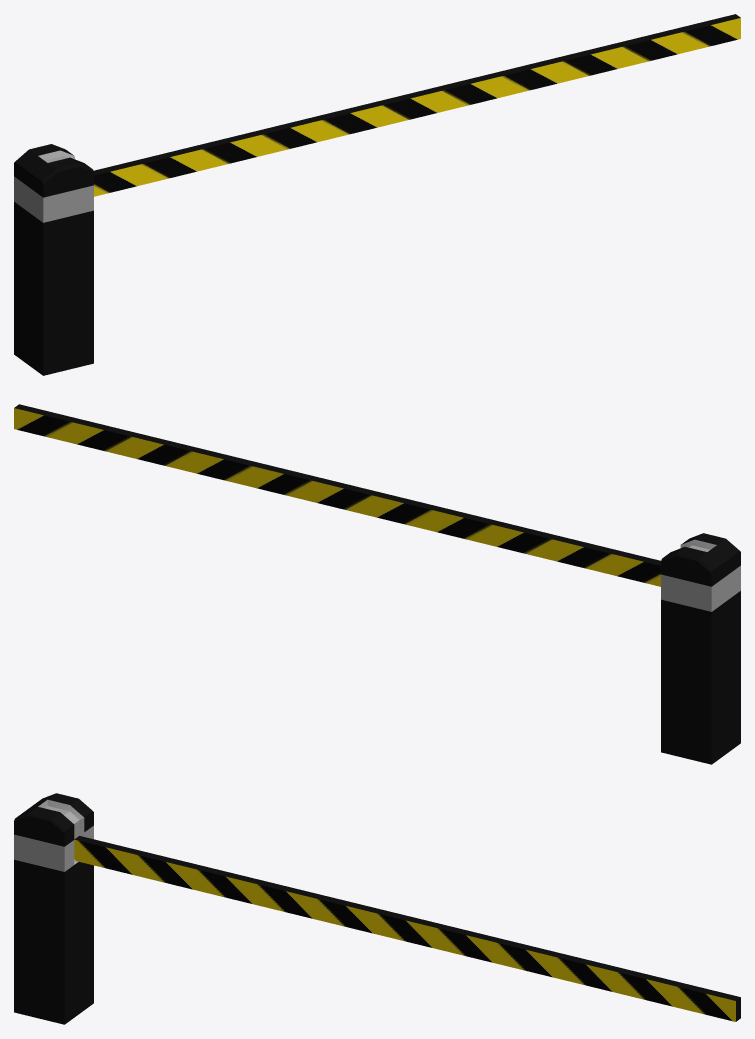
Rendered from GateHouseGate.fbx.
3 renders of one model, top to bottom at view 1: azimuth 30°, elevation 25°; view 2: azimuth 150°, elevation 25°; view 3: azimuth 330°, elevation 25°, orthographic.
Parts seen in each view (by area): view 1: Gate House Gate; view 2: Gate House Gate; view 3: Gate House Gate.
Part boxes in pixels (x1,y1,x2,y2): Gate House Gate: [14, 14, 740, 375]; Gate House Gate: [14, 404, 740, 764]; Gate House Gate: [14, 793, 740, 1024].
Size of the model in its own units: 1649 by 449 by 118.
